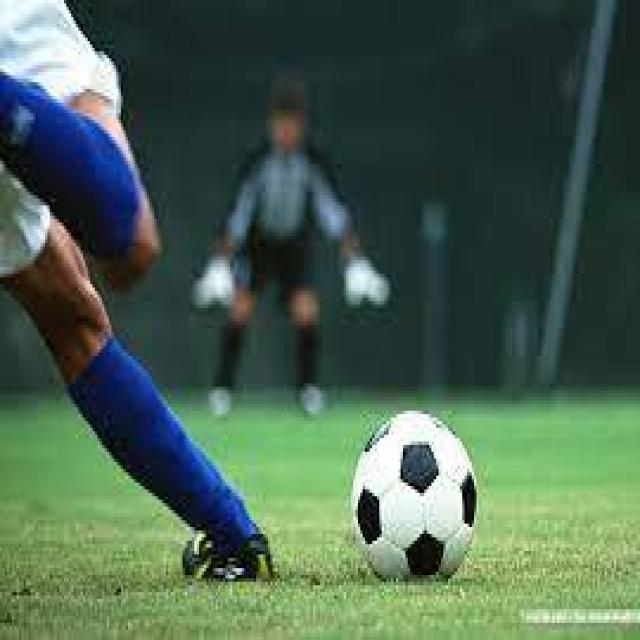ball: (349, 407, 478, 585)
